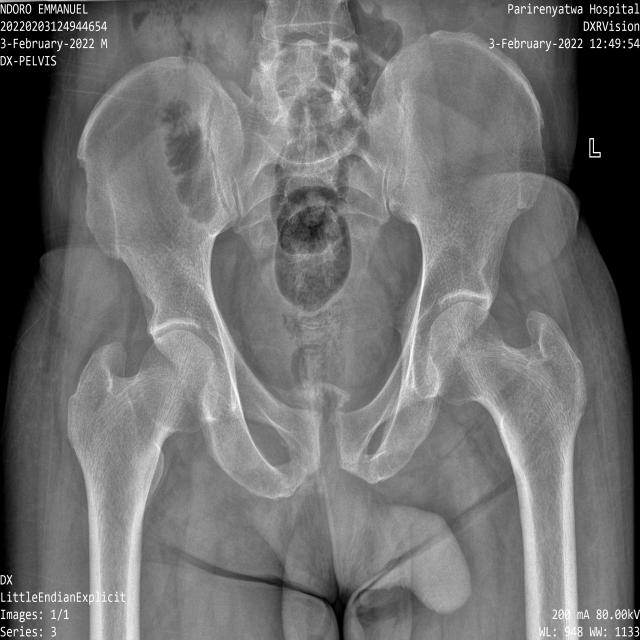normal-left: (426, 301, 588, 581)
normal-right: (68, 330, 220, 590)
